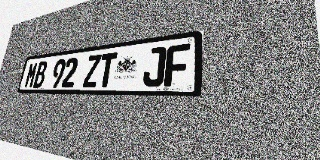2: (61, 57, 79, 88)
9: (50, 58, 67, 88)
B: (33, 61, 48, 88)
F: (164, 43, 190, 87)
J: (142, 46, 166, 87)
M: (24, 62, 39, 88)
T: (97, 52, 117, 87)
Z: (82, 54, 102, 87)
